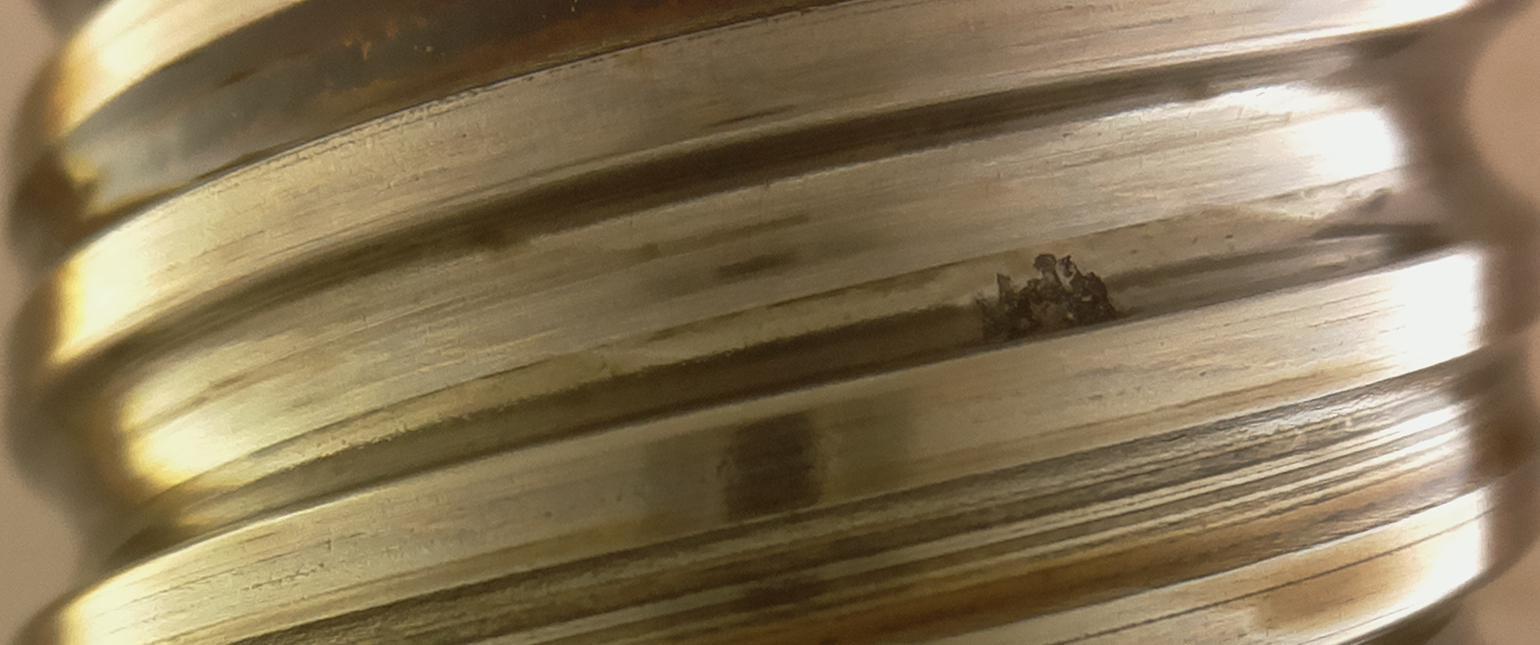pitting: (974, 253, 1136, 347)
